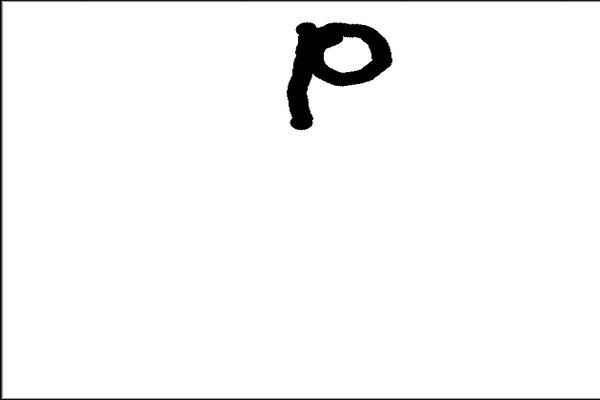P: (277, 11, 400, 137)
